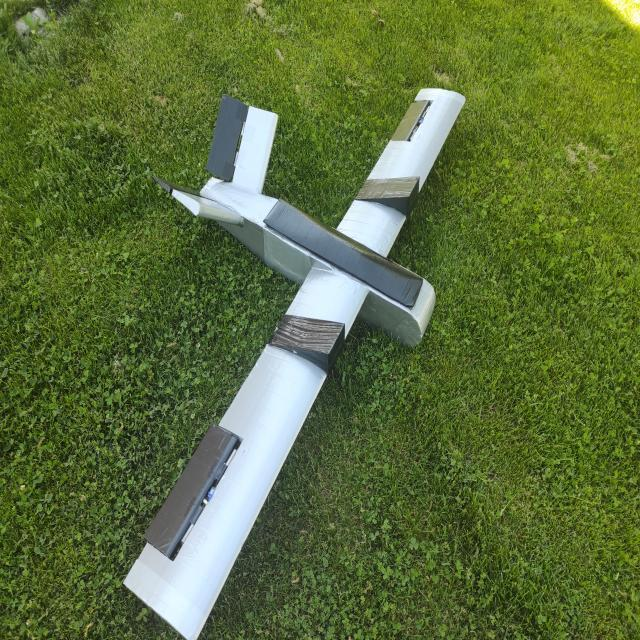iha: (138, 50, 506, 616)
